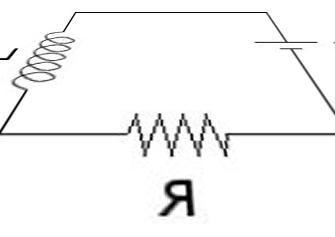inductor: (10, 21, 81, 96)
